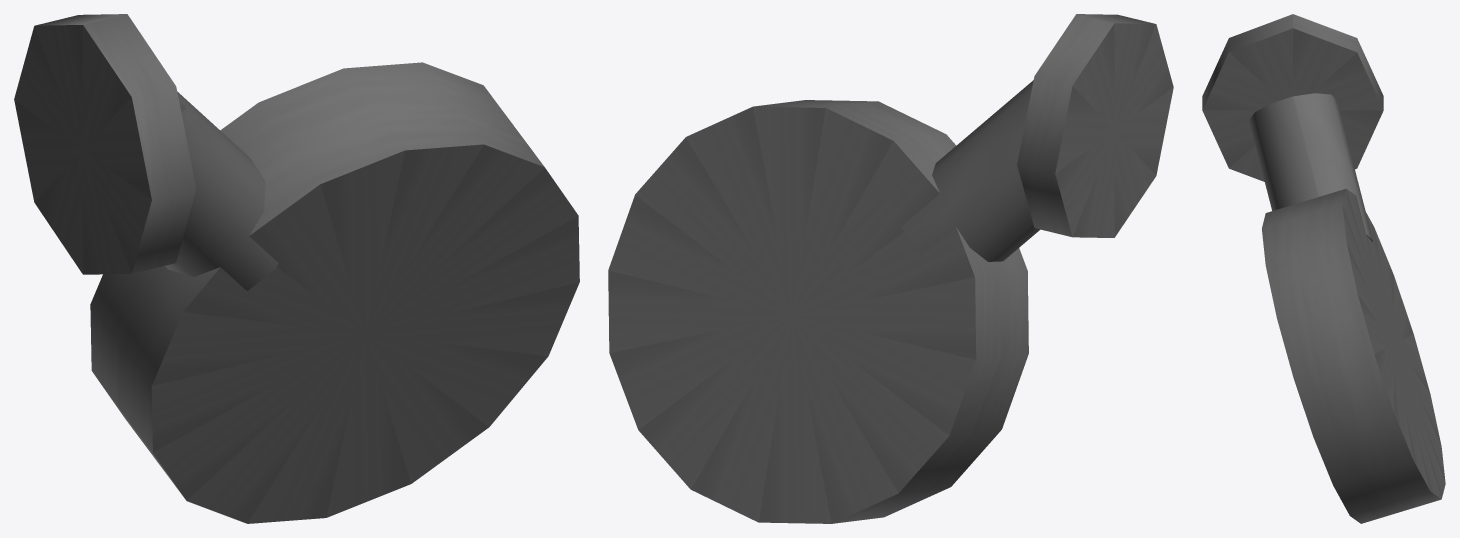
File: mastarmcurve_10x2_c2_west.obj
The picture shows the model from 3 angles, left to right: view 1: azimuth 30°, elevation 25°; view 2: azimuth 150°, elevation 25°; view 3: azimuth 270°, elevation 25°; orthographic projection. The views are drawn at different scales.
Visible parts, largest first — view 1: mastarm_10x2_c2_west; view 2: mastarm_10x2_c2_west; view 3: mastarm_10x2_c2_west.
Boxes of the visible parts, x1,y1,x2,y2 form: mastarm_10x2_c2_west: [14, 14, 579, 523]; mastarm_10x2_c2_west: [608, 14, 1173, 523]; mastarm_10x2_c2_west: [1202, 14, 1445, 523].
Size of the model in its own units: 0.8579 by 0.9696 by 0.5365.
